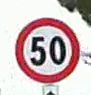limite 50: (14, 16, 78, 83)
